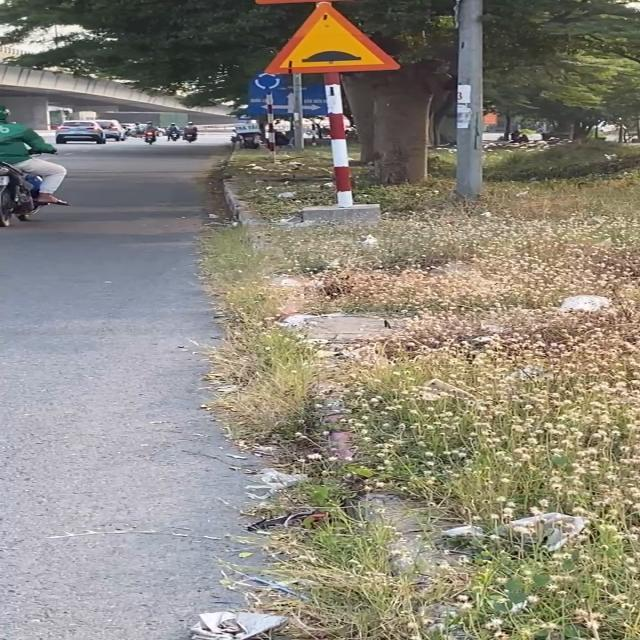221-duong-go-ghe: (260, 1, 402, 74)
303-noi-giao-nhau-chay-theo-vong-xuyen: (252, 70, 284, 92)
